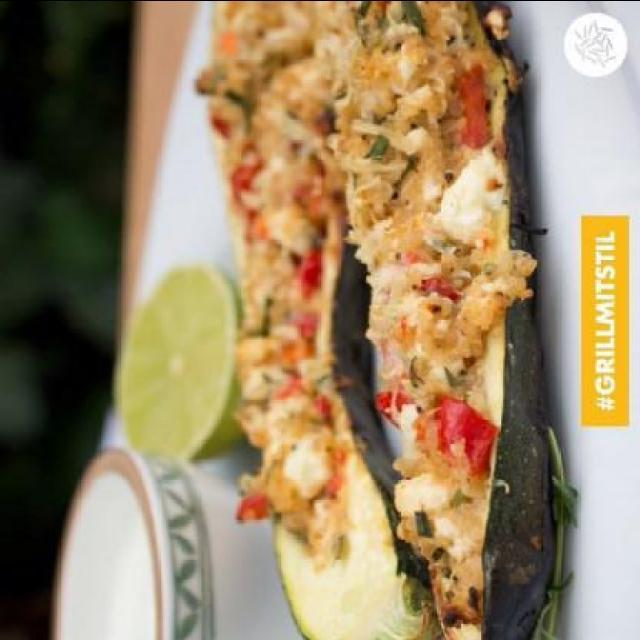Zucchini: (316, 2, 556, 640), (197, 2, 436, 640)
